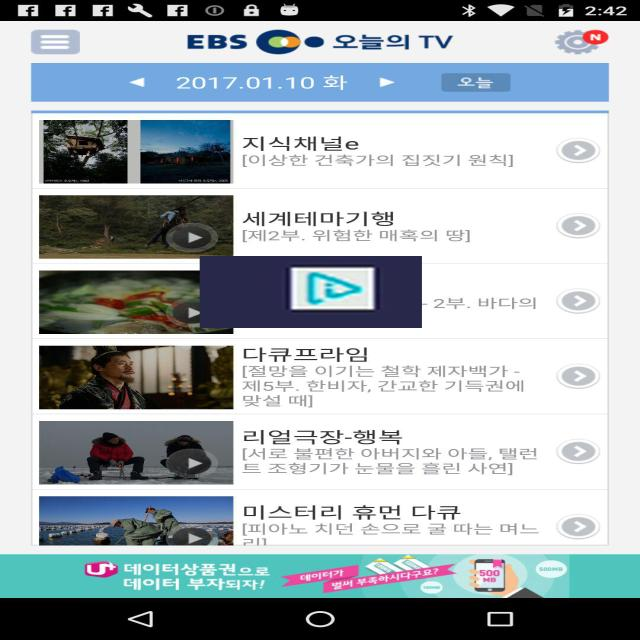sneaking: (200, 256, 422, 328)
